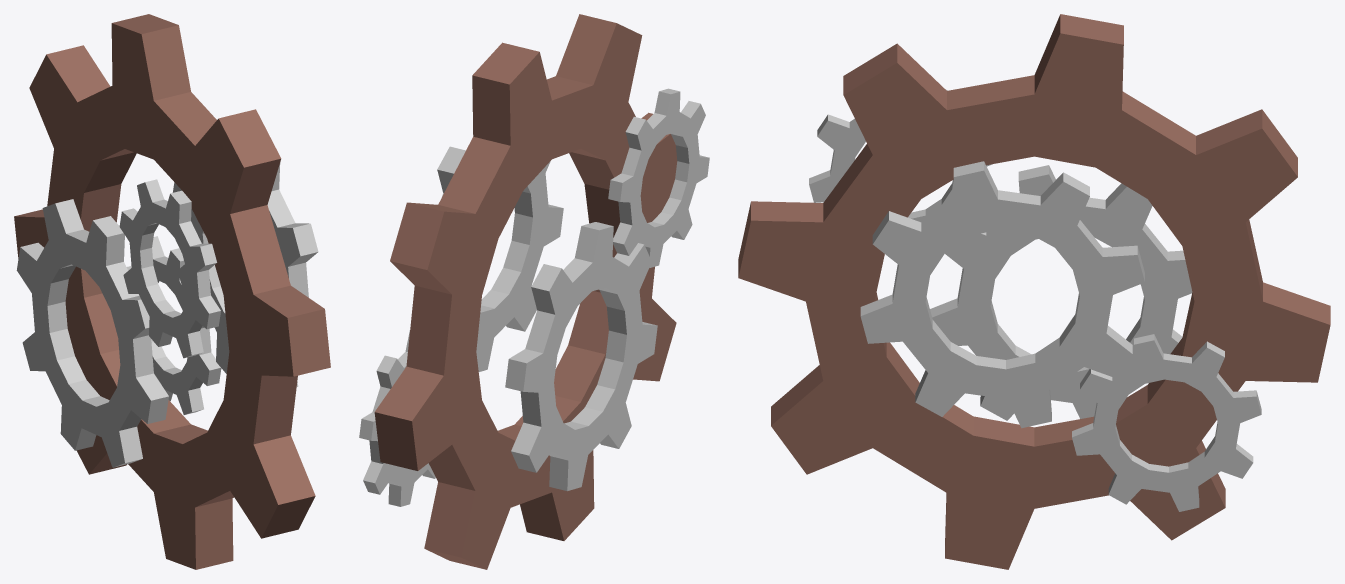
The model's file is gears.obj.
The picture shows the model from 3 angles, left to right: view 1: azimuth 30°, elevation 25°; view 2: azimuth 150°, elevation 25°; view 3: azimuth 270°, elevation 25°; orthographic projection. The views are drawn at different scales.
Parts seen in each view (by area): view 1: Circle_Circle_main, Circle_Circle_Gray; view 2: Circle_Circle_main, Circle_Circle_Gray; view 3: Circle_Circle_main, Circle_Circle_Gray.
Boxes of the visible parts, x1,y1,x2,y2 form: Circle_Circle_main: (14,14,330,569); Circle_Circle_Gray: (16,163,318,467); Circle_Circle_main: (374,14,677,569); Circle_Circle_Gray: (359,88,709,506); Circle_Circle_main: (738,14,1330,569); Circle_Circle_Gray: (809,89,1261,511).
Bounding box in the file's own units: 0.5339 × 1.81 × 1.81.
